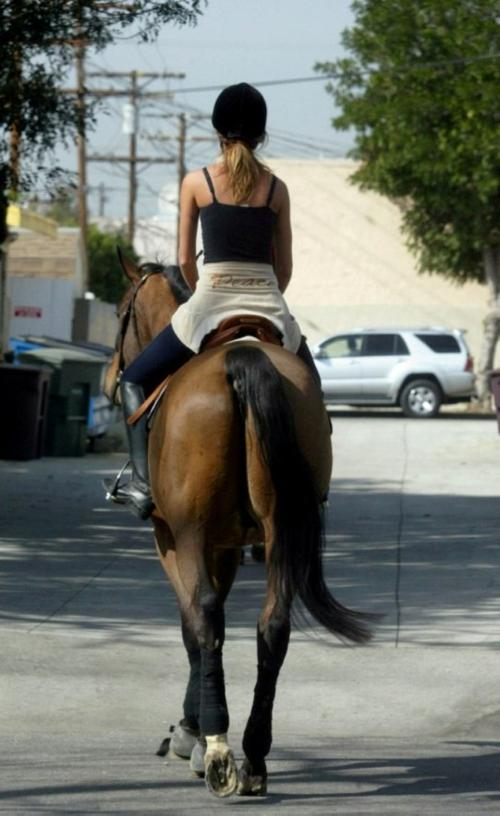person: (100, 82, 336, 530)
